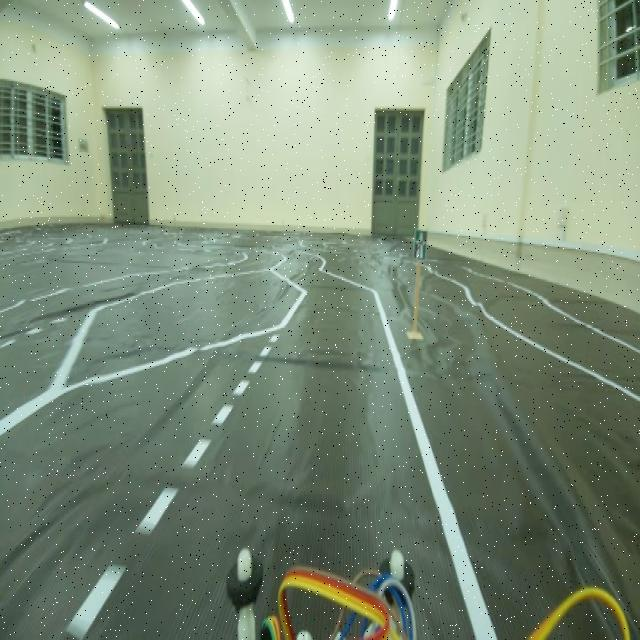highway_exit: (410, 214, 429, 269)
